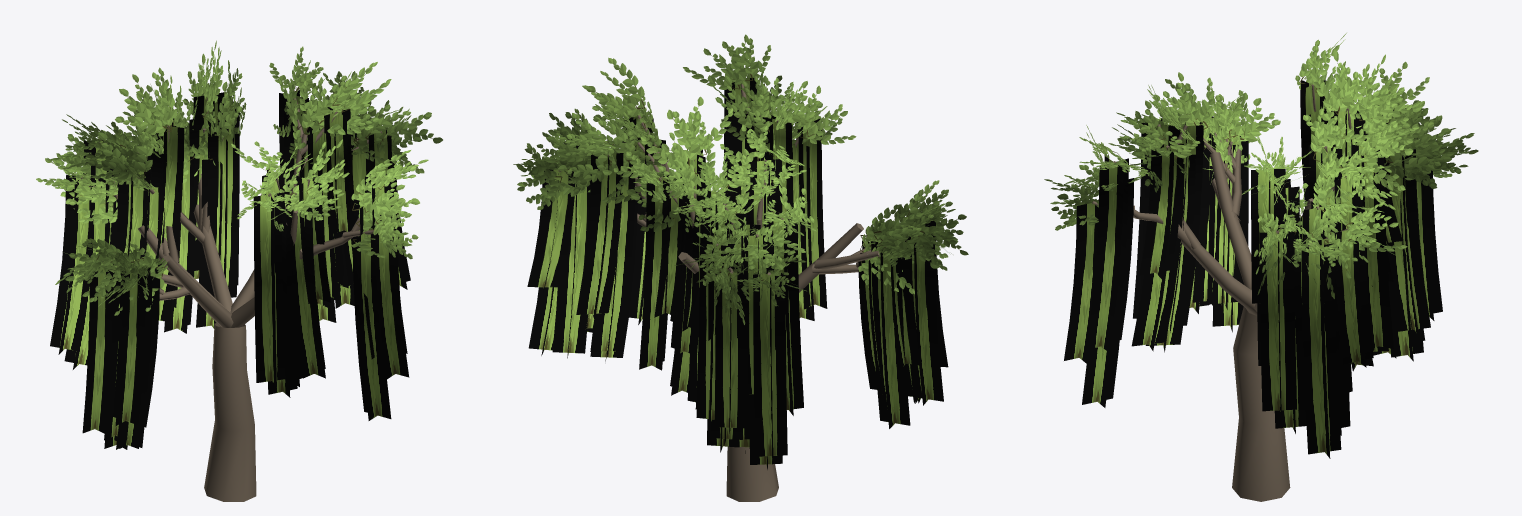
Rendered from willow_1.glb.
3 renders of one model, left to right at view 1: azimuth 30°, elevation 25°; view 2: azimuth 150°, elevation 25°; view 3: azimuth 270°, elevation 25°, orthographic. The views are drawn at different scales.
Visible parts, largest first — view 1: willow_1; view 2: willow_1; view 3: willow_1.
Part boxes in pixels (x1,y1,x2,y2): willow_1: (36,40,442,501); willow_1: (513,34,968,501); willow_1: (1044,33,1478,501).
Bounding box in the file's own units: 9.25 × 8.83 × 8.36.
Materials: 3 (2 with a texture image).
